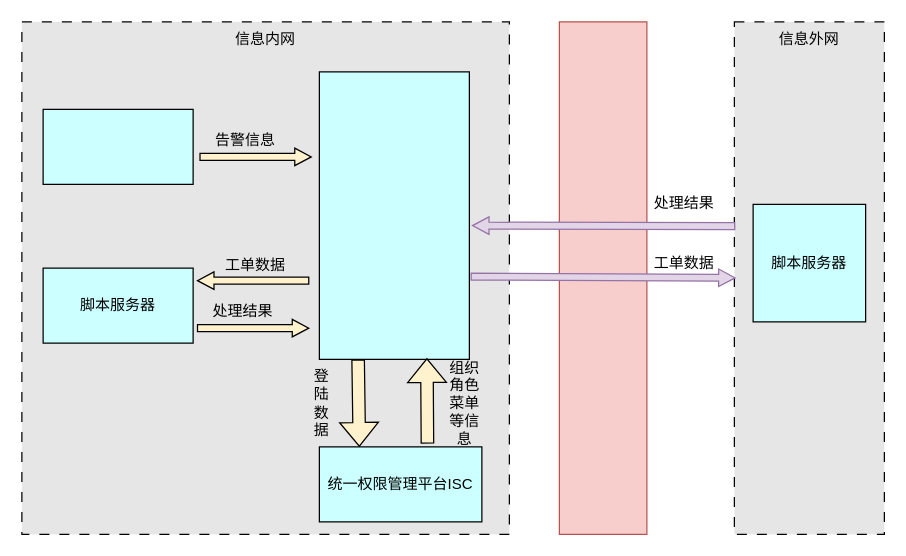
Image size: 906x556. Some labels were removed from this diagram. Each missing label, with the centre of its shape:
业务系统运维精益化管理系统: (393,215)
精卫智能运维平台: (117,146)
隔离装置: (602,277)
